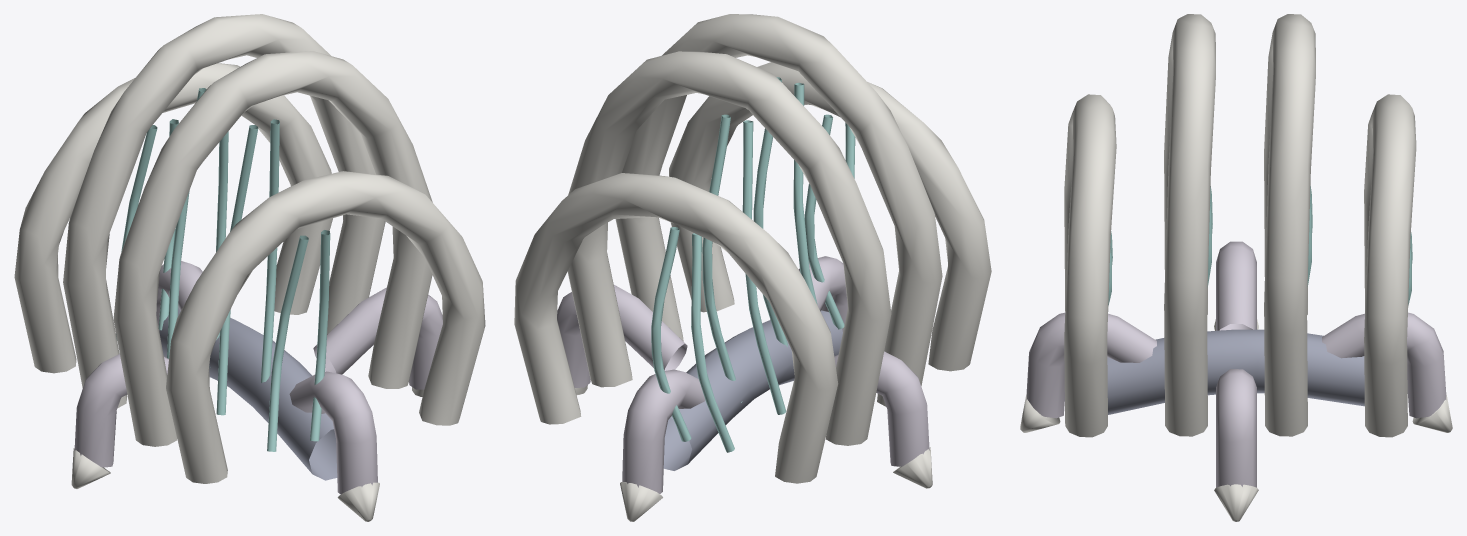
File: bio_blind_harp_01_far.glb
3 views of the same model, side by side, from view 1: azimuth 30°, elevation 25°; view 2: azimuth 150°, elevation 25°; view 3: azimuth 270°, elevation 25° (orthographic). The views are drawn at different scales.
Visible parts, largest first — view 1: Open rib arch.001, Open rib arch, Open rib arch.002, Open rib arch.003, Low axial spine, Crooked support.003, Crooked support, Resonance filament, Crooked support.002, Resonance filament.002, Resonance filament.004, Resonance filament.006 (+3 smaller); view 2: Open rib arch.002, Open rib arch.003, Open rib arch.001, Open rib arch, Low axial spine, Crooked support.001, Resonance filament.004, Crooked support, Resonance filament.006, Crooked support.002, Resonance filament.002, Resonance filament (+3 smaller); view 3: Open rib arch.002, Open rib arch.001, Open rib arch, Open rib arch.003, Low axial spine, Crooked support.003, Crooked support.001, Crooked support, Crooked support.002, Contact spur, Contact spur.003, Contact spur.001.
Part boxes in pixels (x1=…): Open rib arch.001: x1=113, y1=51, x2=432, y2=446; Open rib arch: x1=166, y1=171, x2=485, y2=483; Open rib arch.002: x1=63, y1=14, x2=385, y2=408; Open rib arch.003: x1=14, y1=63, x2=332, y2=373; Low axial spine: x1=159, y1=307, x2=337, y2=480; Crooked support.003: x1=289, y1=371, x2=377, y2=494; Crooked support: x1=313, y1=287, x2=442, y2=389; Resonance filament: x1=267, y1=230, x2=330, y2=451; Crooked support.002: x1=74, y1=354, x2=168, y2=467; Resonance filament.002: x1=216, y1=119, x2=279, y2=415; Resonance filament.004: x1=167, y1=88, x2=228, y2=367; Resonance filament.006: x1=116, y1=119, x2=178, y2=340; Open rib arch.002: x1=567, y1=51, x2=891, y2=445; Open rib arch.003: x1=514, y1=173, x2=838, y2=483; Open rib arch.001: x1=615, y1=14, x2=942, y2=406; Open rib arch: x1=669, y1=62, x2=991, y2=371; Low axial spine: x1=663, y1=310, x2=842, y2=470; Crooked support.001: x1=622, y1=369, x2=705, y2=493; Resonance filament.004: x1=702, y1=114, x2=786, y2=414; Crooked support: x1=557, y1=285, x2=687, y2=387; Resonance filament.006: x1=651, y1=227, x2=734, y2=452; Crooked support.002: x1=834, y1=351, x2=929, y2=466; Resonance filament.002: x1=753, y1=77, x2=817, y2=346; Resonance filament: x1=804, y1=114, x2=855, y2=329; Open rib arch.002: x1=1264, y1=14, x2=1315, y2=436; Open rib arch.001: x1=1164, y1=14, x2=1215, y2=436; Open rib arch: x1=1064, y1=94, x2=1116, y2=437; Open rib arch.003: x1=1364, y1=94, x2=1416, y2=437; Low axial spine: x1=1107, y1=329, x2=1364, y2=414; Crooked support.003: x1=1026, y1=312, x2=1156, y2=418; Crooked support.001: x1=1322, y1=312, x2=1446, y2=418; Crooked support: x1=1216, y1=369, x2=1256, y2=487; Crooked support.002: x1=1216, y1=241, x2=1256, y2=330; Contact spur: x1=1214, y1=484, x2=1258, y2=521; Contact spur.003: x1=1020, y1=394, x2=1060, y2=432; Contact spur.001: x1=1412, y1=395, x2=1452, y2=432.
Bounding box in the file's own units: 2.02 × 2.07 × 2.02.
